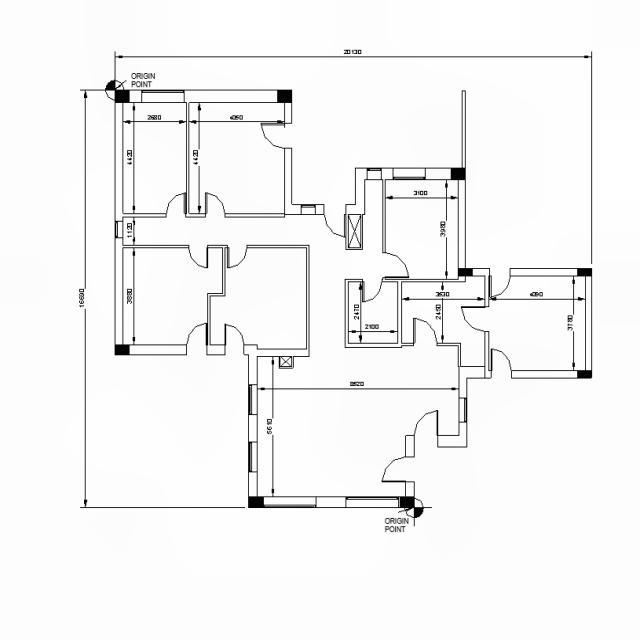Column: (114, 90, 130, 104), (277, 90, 292, 104), (450, 168, 466, 180), (248, 496, 264, 508), (114, 344, 130, 356), (400, 496, 414, 508), (577, 268, 592, 276), (458, 268, 472, 276), (577, 371, 592, 378)
Door: (414, 410, 438, 447), (260, 122, 292, 148), (382, 457, 414, 482), (412, 318, 438, 347), (461, 306, 489, 332), (186, 322, 208, 355), (324, 205, 346, 238), (382, 253, 410, 278), (489, 268, 511, 298), (490, 348, 512, 378), (224, 324, 244, 356), (204, 192, 226, 218), (166, 192, 186, 218), (188, 245, 208, 268), (227, 245, 247, 268), (362, 279, 382, 302)
Window: (264, 496, 316, 508), (346, 496, 398, 508), (142, 90, 184, 103), (392, 168, 426, 180), (248, 384, 258, 416), (248, 442, 258, 472), (366, 168, 382, 180), (459, 398, 467, 422), (114, 220, 124, 239), (301, 204, 316, 214)
